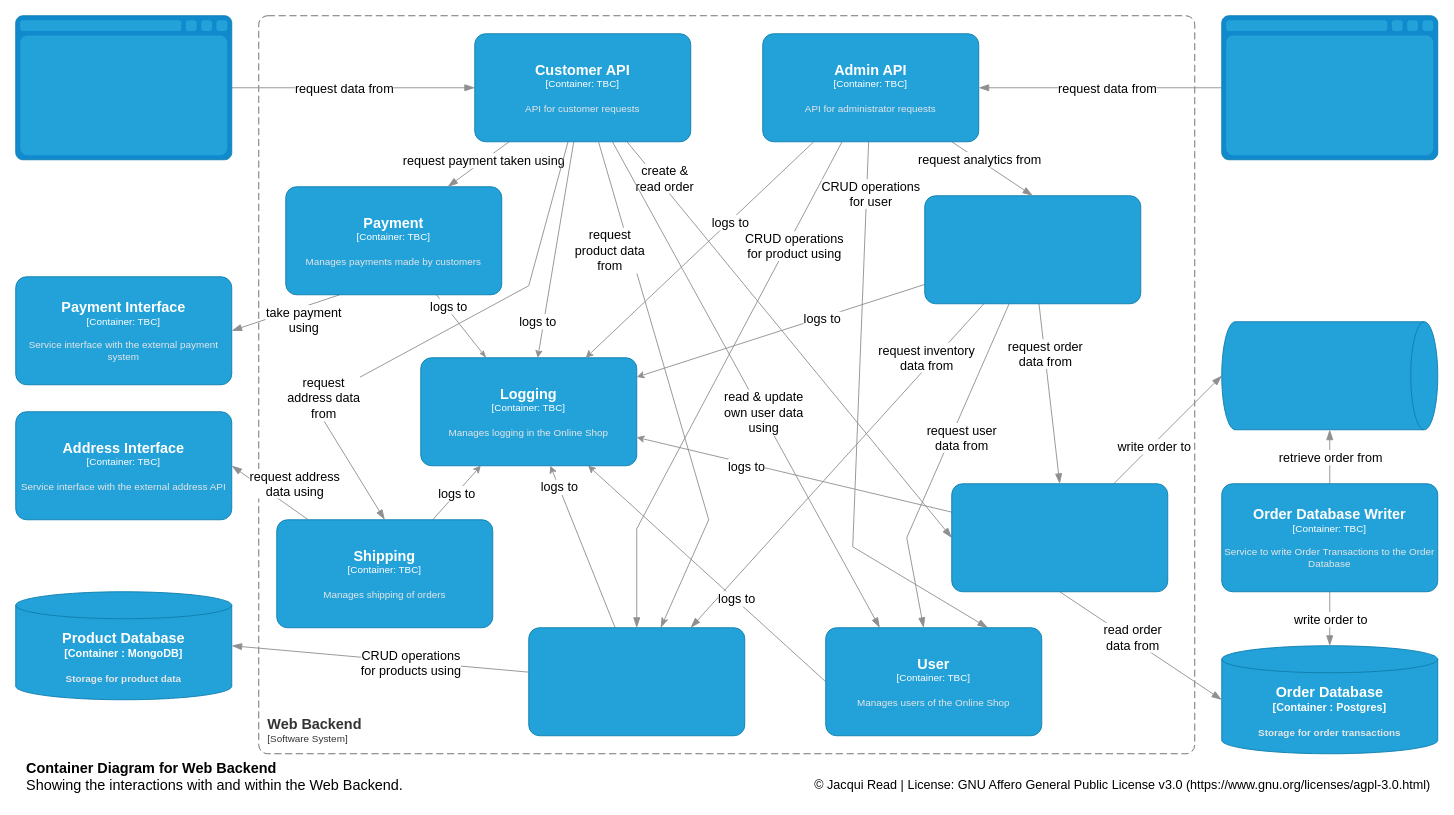
This 1454x815 diagram has some shape labels left out. Each missing label, with the centre of its shape:
Admin UI [Container : Angular] Online Store admin user interface: the point at 1329,87
Analytics [Container: TBC] Manages analytics of the Online Shop: the point at 1032,249
Inventory [Container: TBC] Manages product inventory: the point at 636,681
Online Store UI [Container : Angular] Online Store customer user interface: the point at 123,87
Order [Container: TBC] Manages CRUD for orders made by customers: the point at 1059,537
Transaction Queue [Container : RabbitMQ] Queue for Order Transactions: the point at 1329,375
